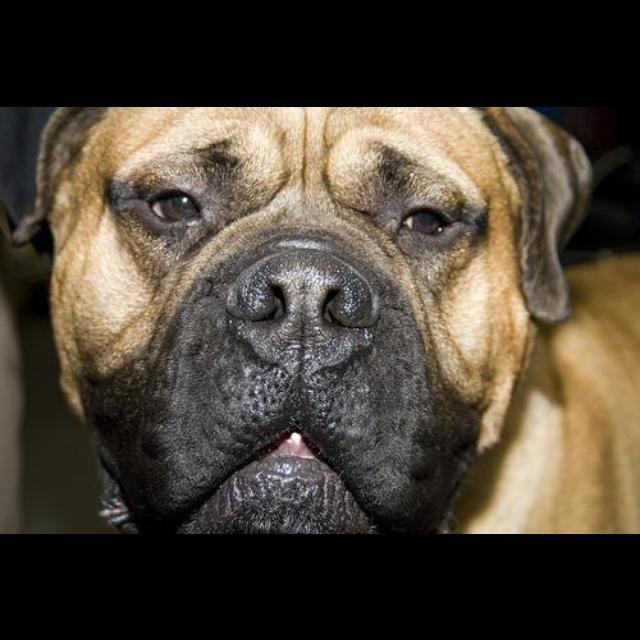bullmastiff: (8, 107, 639, 533)
